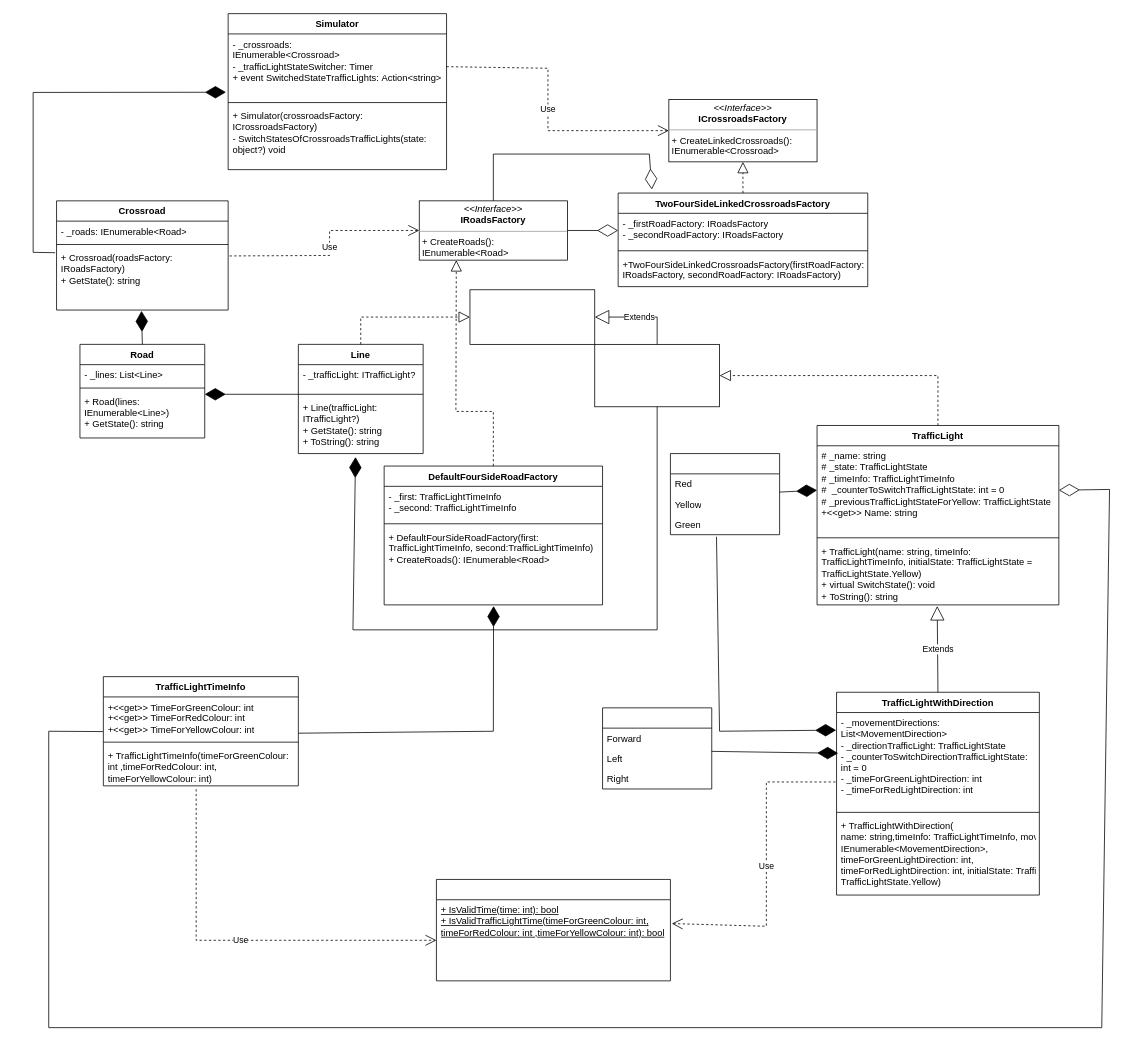
This 1143x1062 diagram has some shape labels left out. The box of each missing label's shape, as (x1, y1, x2, y2) in pixels:
<<Enumeration>> MovementDirection: (602, 707, 712, 789)
<<Enumeration>> TrafficLightState: (670, 453, 780, 535)
<<Interface>> ICloneable: (469, 289, 595, 344)
<<Interface>> ITrafficLight +<<get >> Name: string + SwitchState(): void: (594, 344, 720, 407)
TrafficLightTimeValidator: (436, 879, 670, 981)
